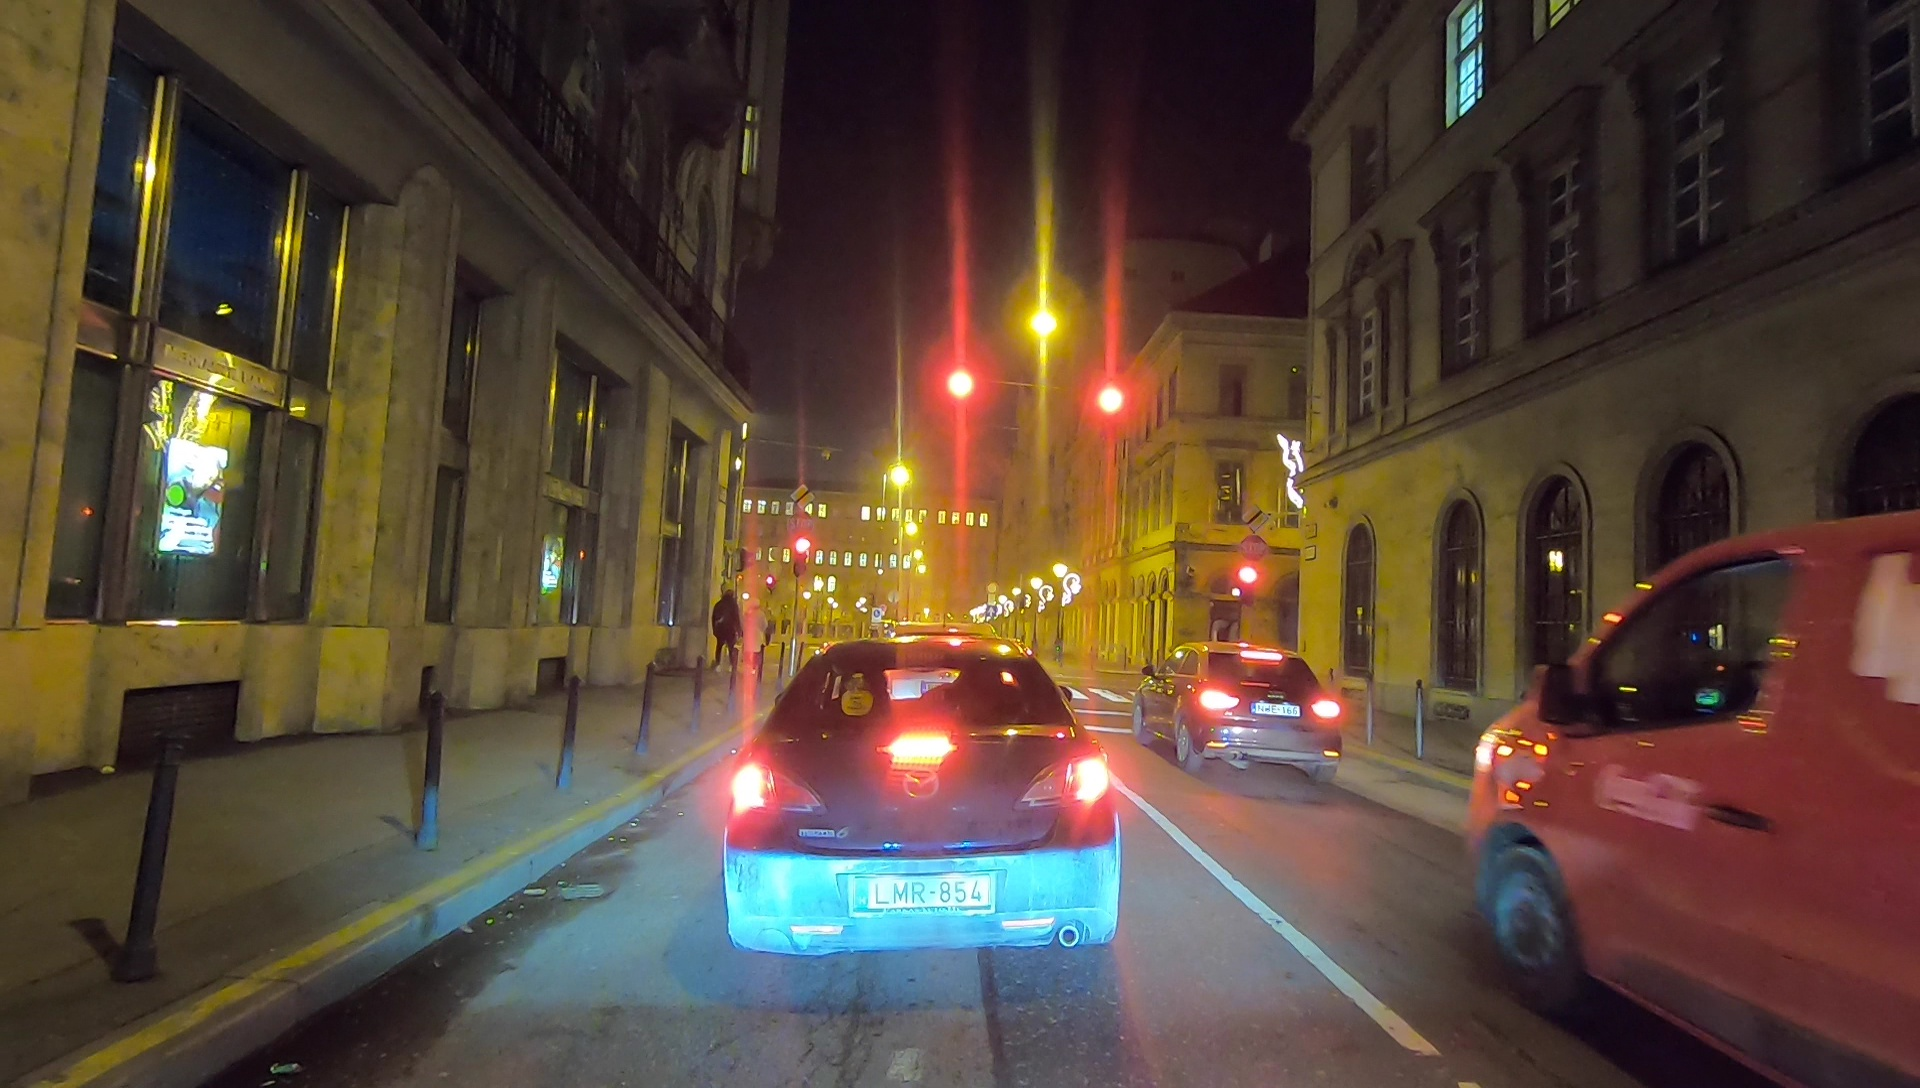person: (712, 586, 739, 680), (739, 597, 769, 676)
